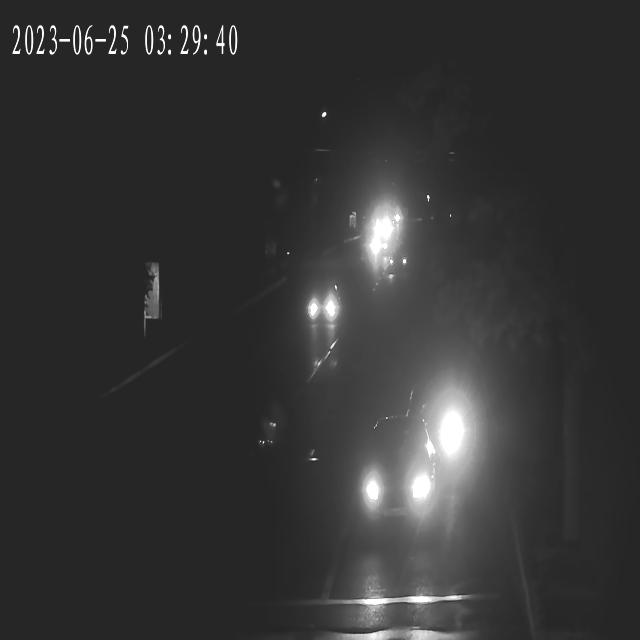Car: (351, 432, 444, 524), (405, 360, 474, 474), (307, 276, 338, 341), (384, 239, 411, 276), (364, 228, 390, 260), (376, 214, 394, 239)
